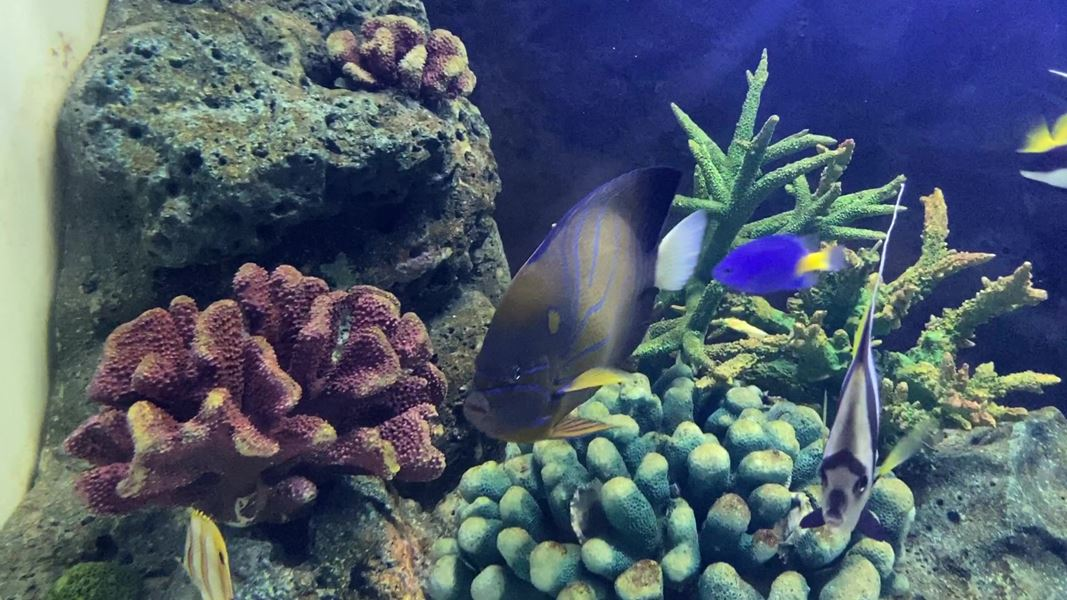Blue ring angelfish: (443, 153, 730, 447)
